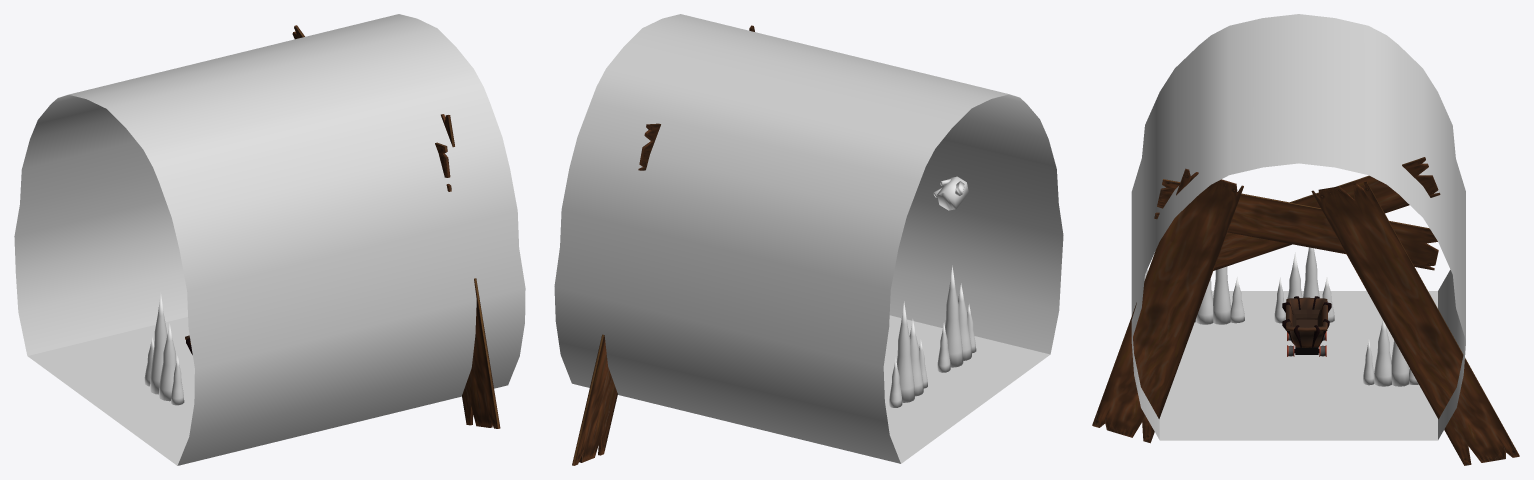
Rendered from Parte 1 obstáculos 1.fbx.
The picture shows the model from 3 angles, left to right: view 1: azimuth 30°, elevation 25°; view 2: azimuth 150°, elevation 25°; view 3: azimuth 270°, elevation 25°; orthographic projection. The views are drawn at different scales.
Visible parts, largest first — view 1: Plane, Plane.004, Plane.003, Cylinder.001; view 2: Plane, Plane.004, Plane.003, Cylinder.002, Cylinder.001, Cube.005; view 3: Plane, Plane.003, Plane.004, Plane.001, Plane.002, Cylinder, Cylinder.002, Cylinder.001, MineCart.002, MineCart, MineCart.003.
Part boxes in pixels (x1=…): Plane: x1=14, y1=14, x2=525, y2=465; Plane.004: x1=27, y1=317, x2=194, y2=465; Plane.003: x1=441, y1=114, x2=500, y2=428; Cylinder.001: x1=144, y1=292, x2=184, y2=405; Plane: x1=554, y1=14, x2=1063, y2=463; Plane.004: x1=883, y1=315, x2=1050, y2=463; Plane.003: x1=572, y1=25, x2=754, y2=465; Cylinder.002: x1=937, y1=265, x2=976, y2=372; Cylinder.001: x1=889, y1=301, x2=927, y2=407; Cube.005: x1=933, y1=176, x2=968, y2=210; Plane: x1=1131, y1=14, x2=1465, y2=439; Plane.003: x1=1092, y1=168, x2=1519, y2=465; Plane.004: x1=1159, y1=291, x2=1437, y2=440; Plane.001: x1=1154, y1=179, x2=1438, y2=270; Plane.002: x1=1213, y1=157, x2=1440, y2=270; Cylinder: x1=1363, y1=320, x2=1418, y2=386; Cylinder.002: x1=1194, y1=266, x2=1244, y2=324; Cylinder.001: x1=1274, y1=247, x2=1334, y2=323; MineCart.002: x1=1286, y1=297, x2=1327, y2=347; MineCart: x1=1293, y1=309, x2=1320, y2=354; MineCart.003: x1=1282, y1=296, x2=1331, y2=347.
Bounding box in the file's own units: 1644 × 1643 × 1962.
